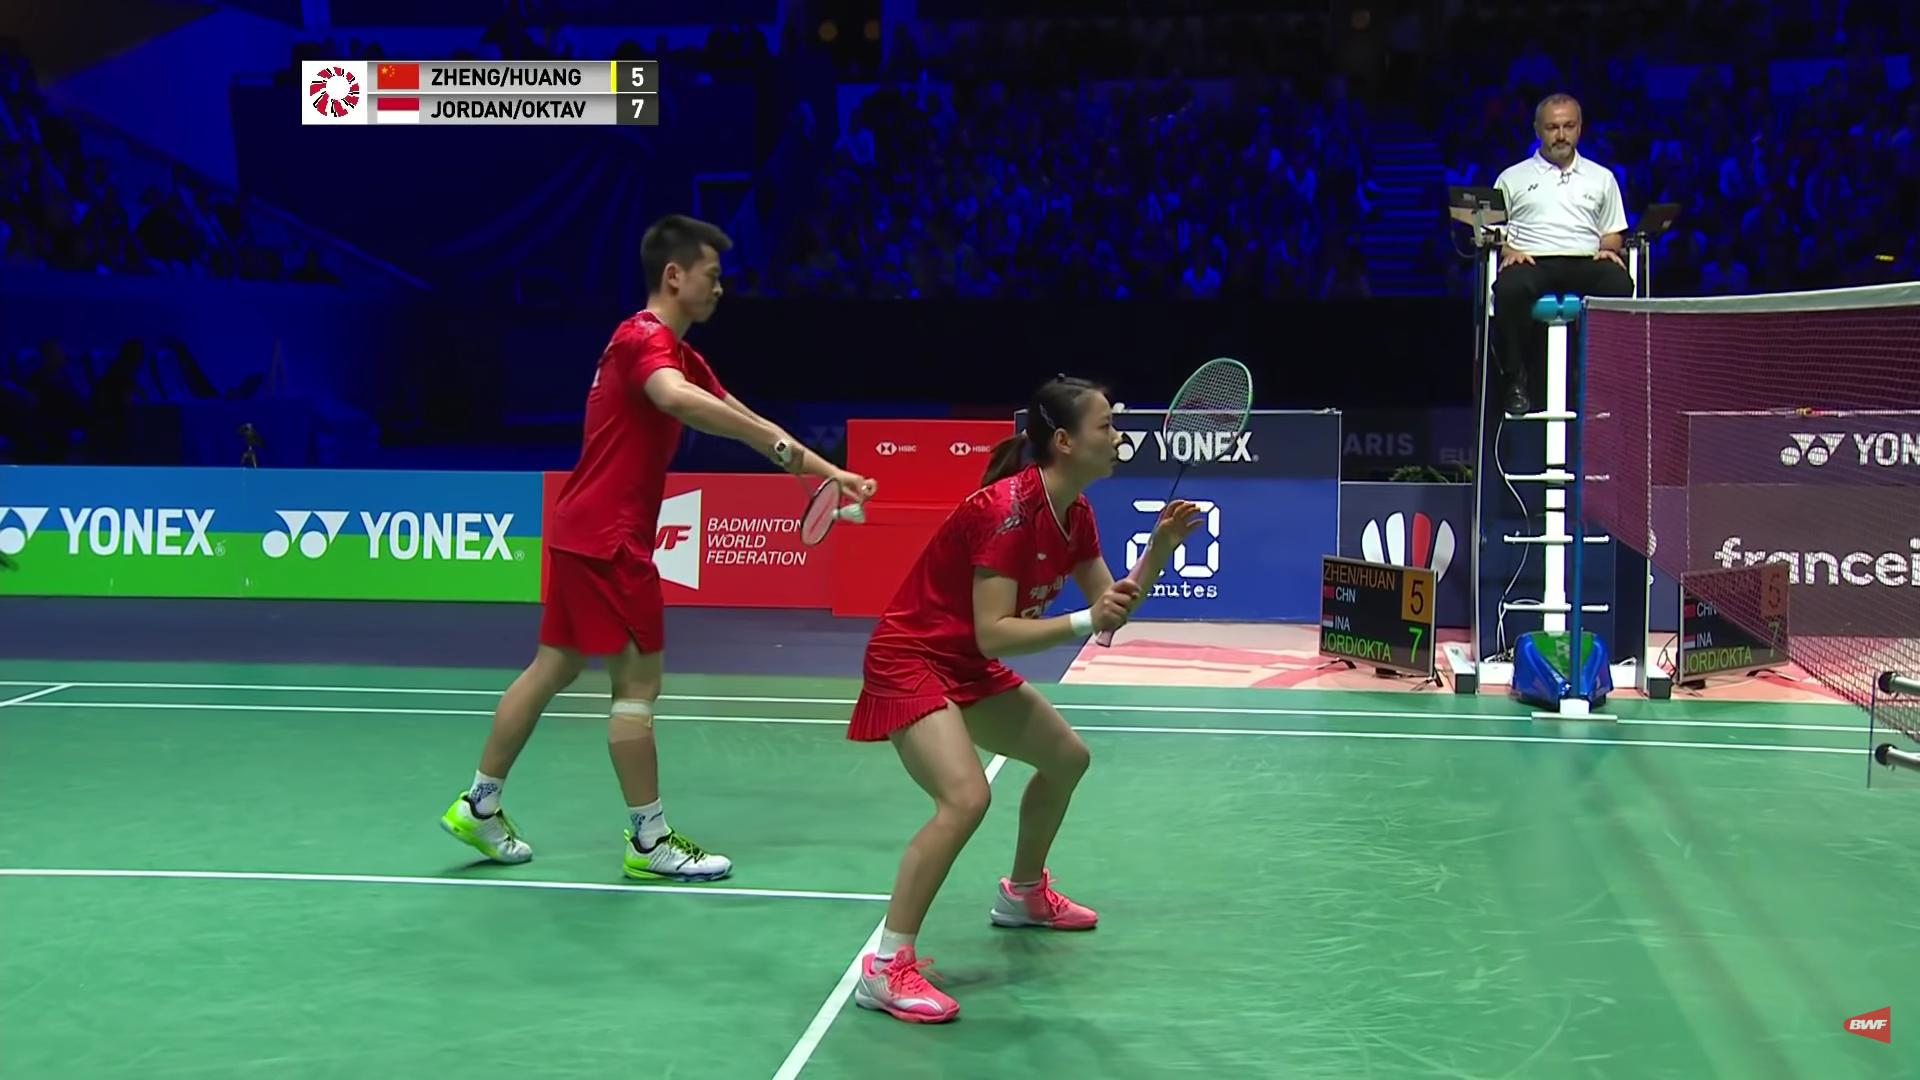racket: (1147, 355, 1296, 471), (785, 459, 857, 546)
shuttle: (827, 492, 881, 539)
